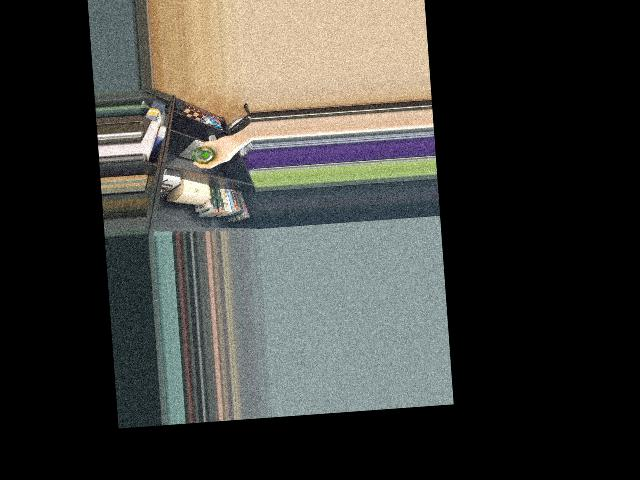beer: (193, 144, 215, 164)
